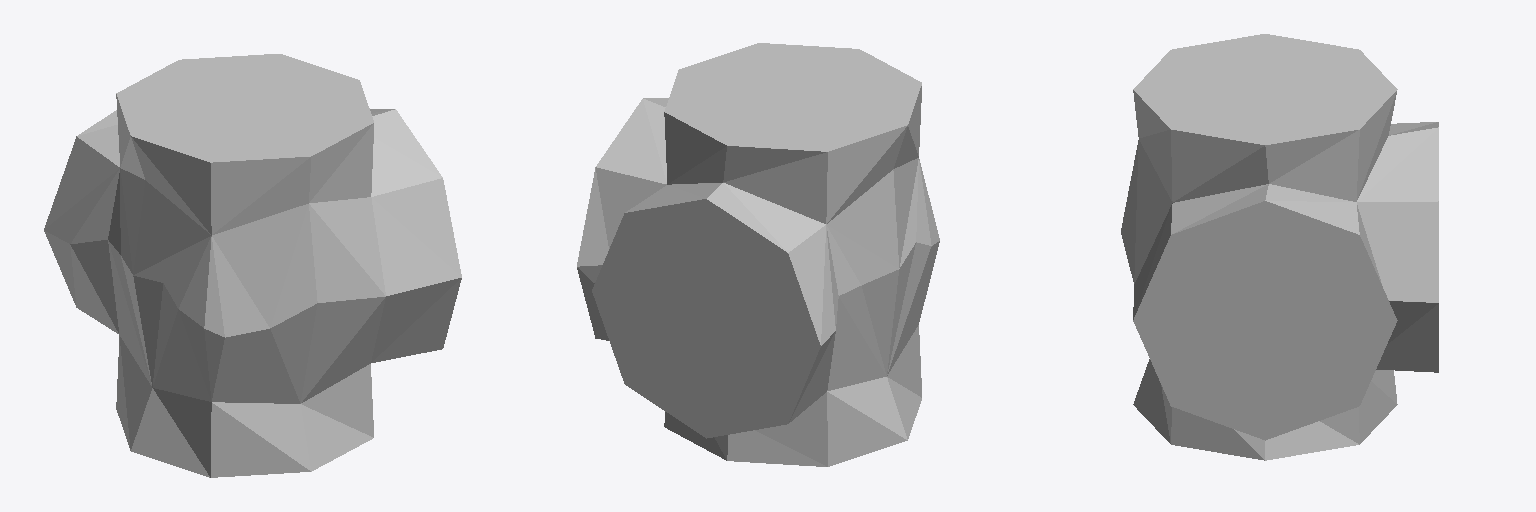
File: 3 branches L.obj
The picture shows the model from 3 angles: view 1: azimuth 30°, elevation 25°; view 2: azimuth 150°, elevation 25°; view 3: azimuth 270°, elevation 25°; orthographic projection.
Visible parts, largest first — view 1: 3_branches_(L)_Cube.024; view 2: 3_branches_(L)_Cube.024; view 3: 3_branches_(L)_Cube.024.
Boxes of the visible parts, x1,y1,x2,y2 form: 3_branches_(L)_Cube.024: [44, 54, 461, 477]; 3_branches_(L)_Cube.024: [577, 43, 939, 466]; 3_branches_(L)_Cube.024: [1121, 34, 1438, 460].
Bounding box in the file's own units: 1.76 × 2 × 1.83.